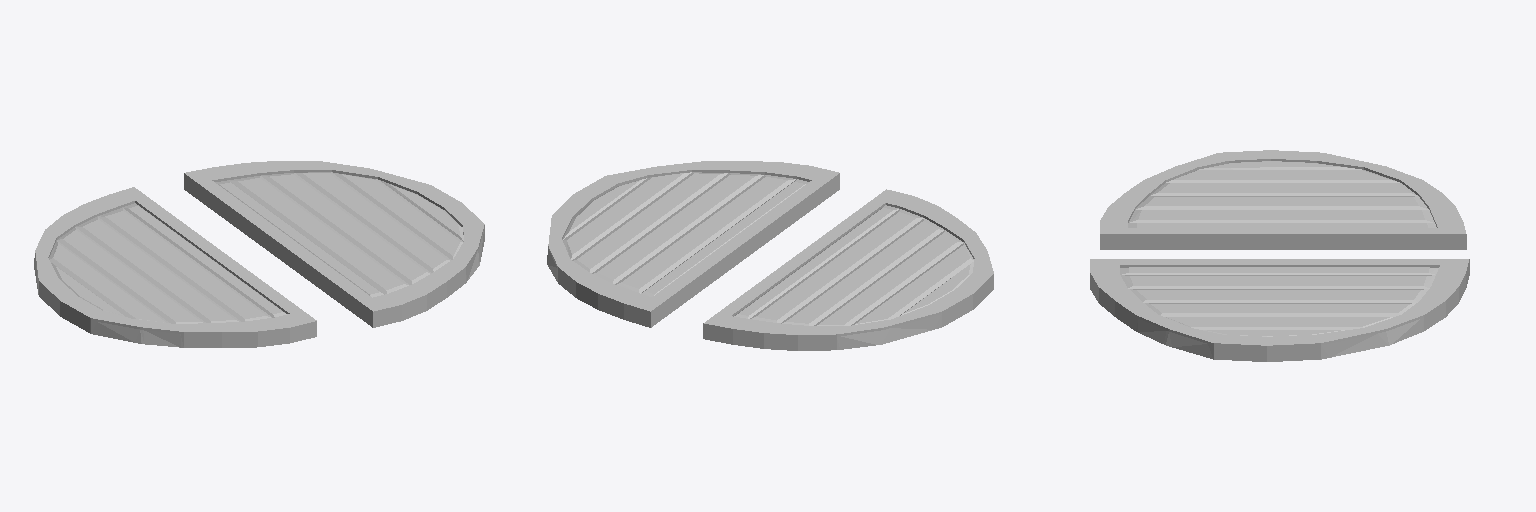
File: Split.obj
The picture shows the model from 3 angles: view 1: azimuth 30°, elevation 25°; view 2: azimuth 150°, elevation 25°; view 3: azimuth 270°, elevation 25°; orthographic projection.
Visible parts, largest first — view 1: pCube143; view 2: pCube143; view 3: pCube143.
Part boxes in pixels (bbox=[...]): pCube143: bbox=[34, 161, 484, 347]; pCube143: bbox=[547, 161, 993, 350]; pCube143: bbox=[1090, 150, 1469, 361].
Size of the model in its own units: 2151 by 84.15 by 1759.